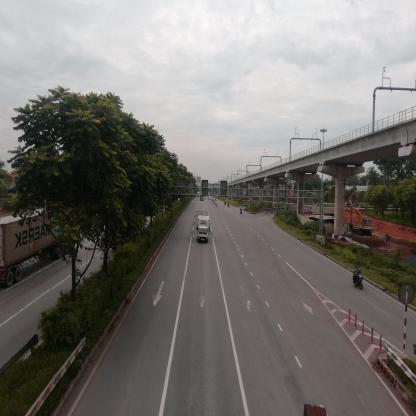container: (2, 207, 81, 291)
motorbike: (356, 268, 366, 289)
truck: (196, 217, 212, 244)
